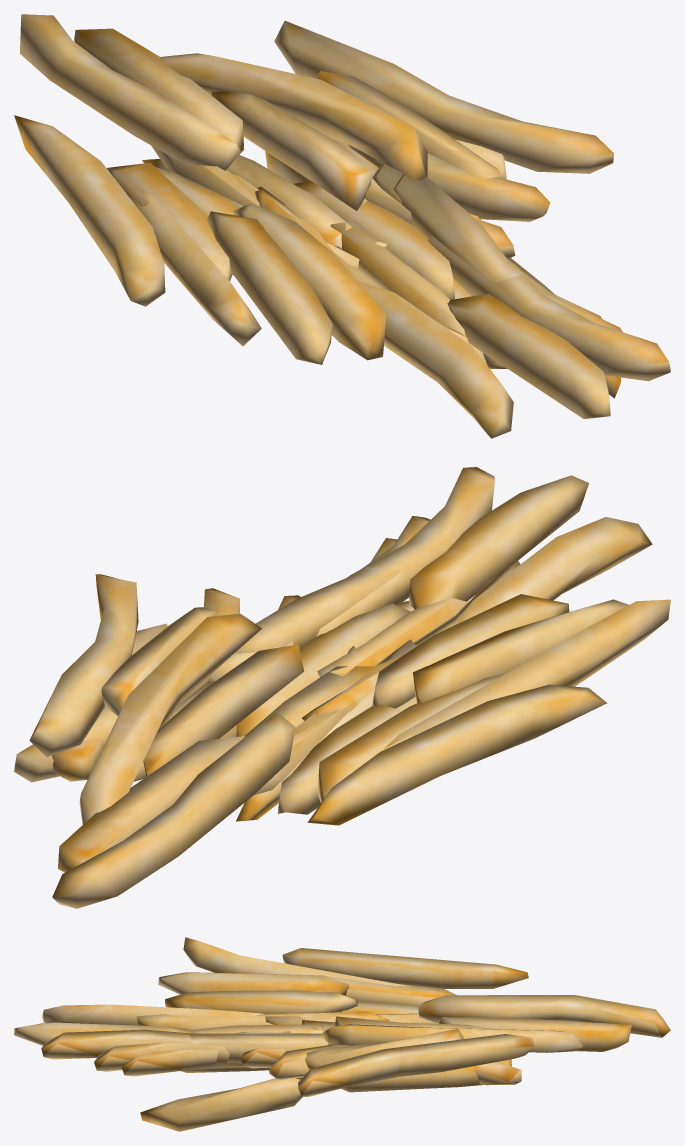
File: FrenchFries.fbx
The picture shows the model from 3 angles, top to bottom: view 1: azimuth 30°, elevation 25°; view 2: azimuth 150°, elevation 25°; view 3: azimuth 270°, elevation 25°; orthographic projection. The views are drawn at different scales.
Visible parts, largest first — view 1: French Fries1.001; view 2: French Fries1.001; view 3: French Fries1.001.
Part boxes in pixels (x1,y1,x2,y2): French Fries1.001: (14,14,670,438); French Fries1.001: (14,467,670,908); French Fries1.001: (14,937,670,1131).
Size of the model in its own units: 0.1756 by 0.0517 by 0.3374.
